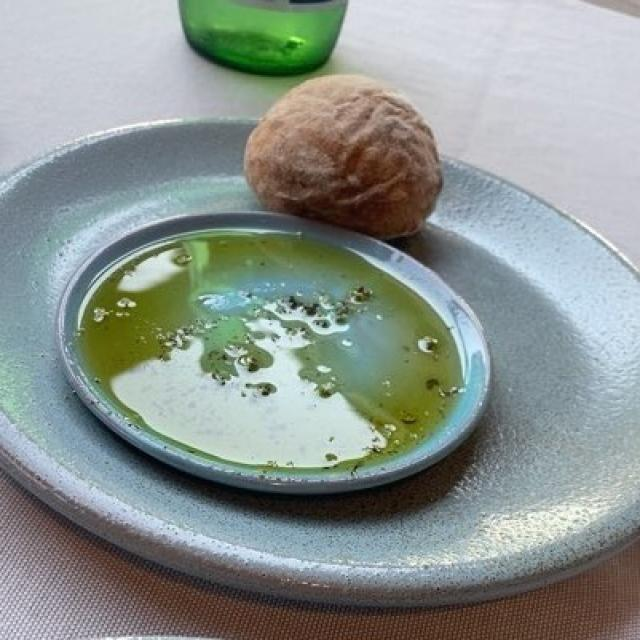bread: (247, 73, 449, 240)
